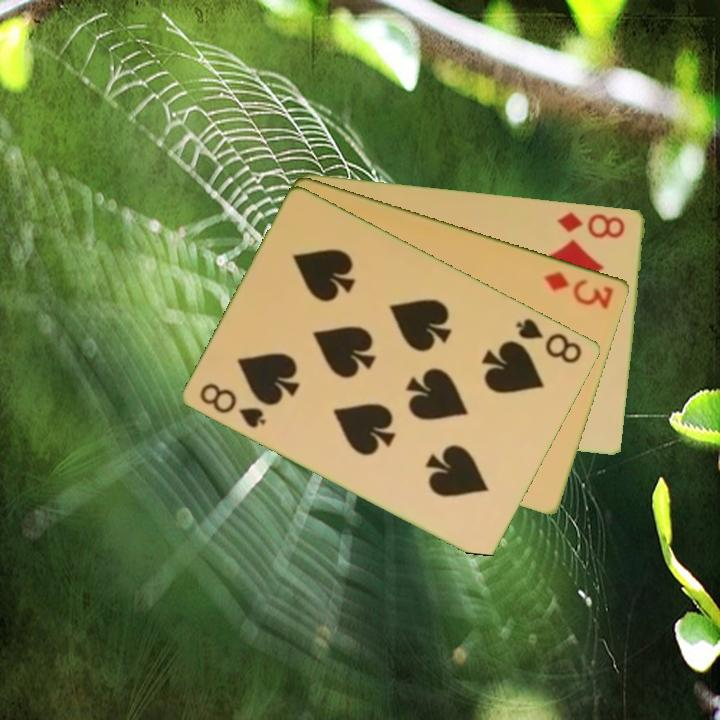3d: (541, 267, 617, 312)
8d: (554, 208, 629, 241)
8s: (513, 314, 586, 367), (197, 379, 270, 431)
